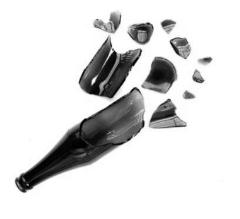glass: (14, 11, 212, 195)
